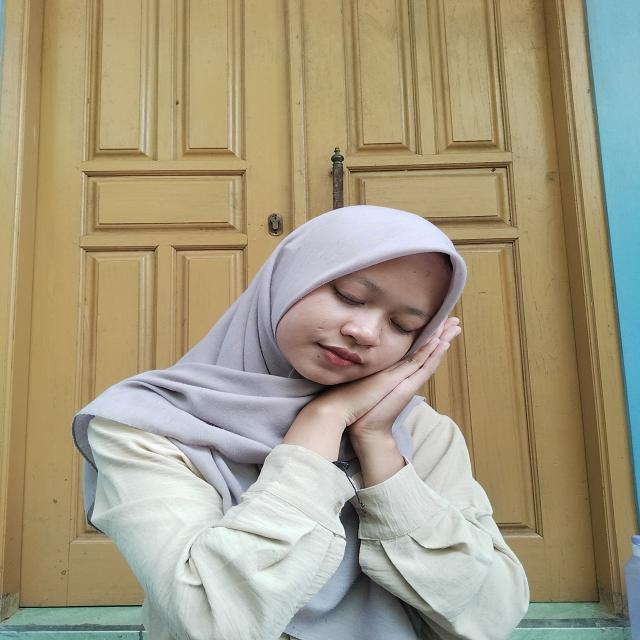tidur: (243, 311, 467, 486)
